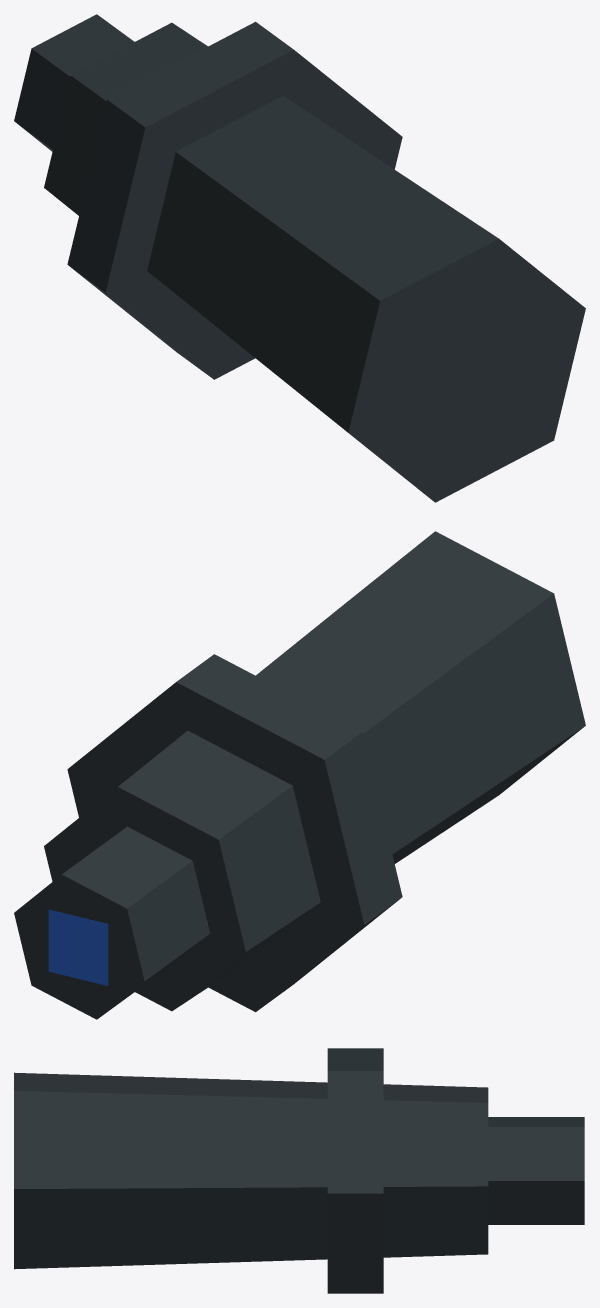
The picture shows the model from 3 angles, top to bottom: view 1: azimuth 30°, elevation 25°; view 2: azimuth 150°, elevation 25°; view 3: azimuth 270°, elevation 25°; orthographic projection. The views are drawn at different scales.
Visible parts, largest first — view 1: mount; view 2: mount; view 3: mount.
Part boxes in pixels (x1,y1,x2,y2): mount: [14, 14, 585, 502]; mount: [14, 531, 585, 1019]; mount: [14, 1048, 584, 1293].
Size of the model in its own units: 6.28 by 6.28 by 14.23.
